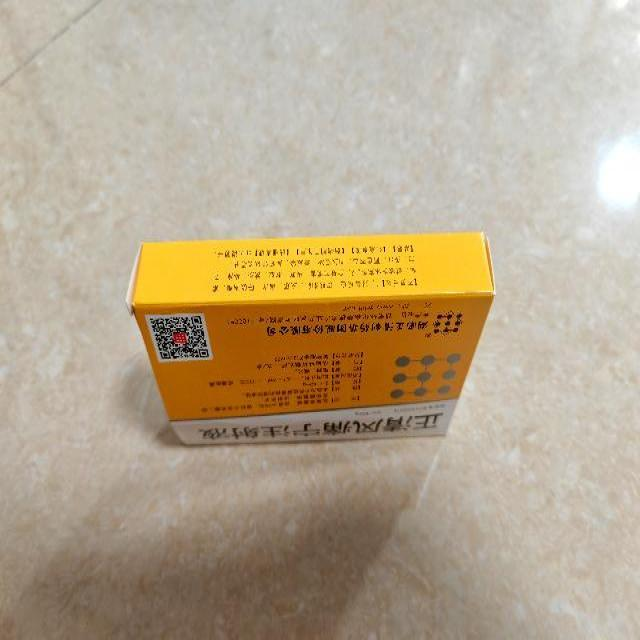box: (130, 232, 494, 444)
